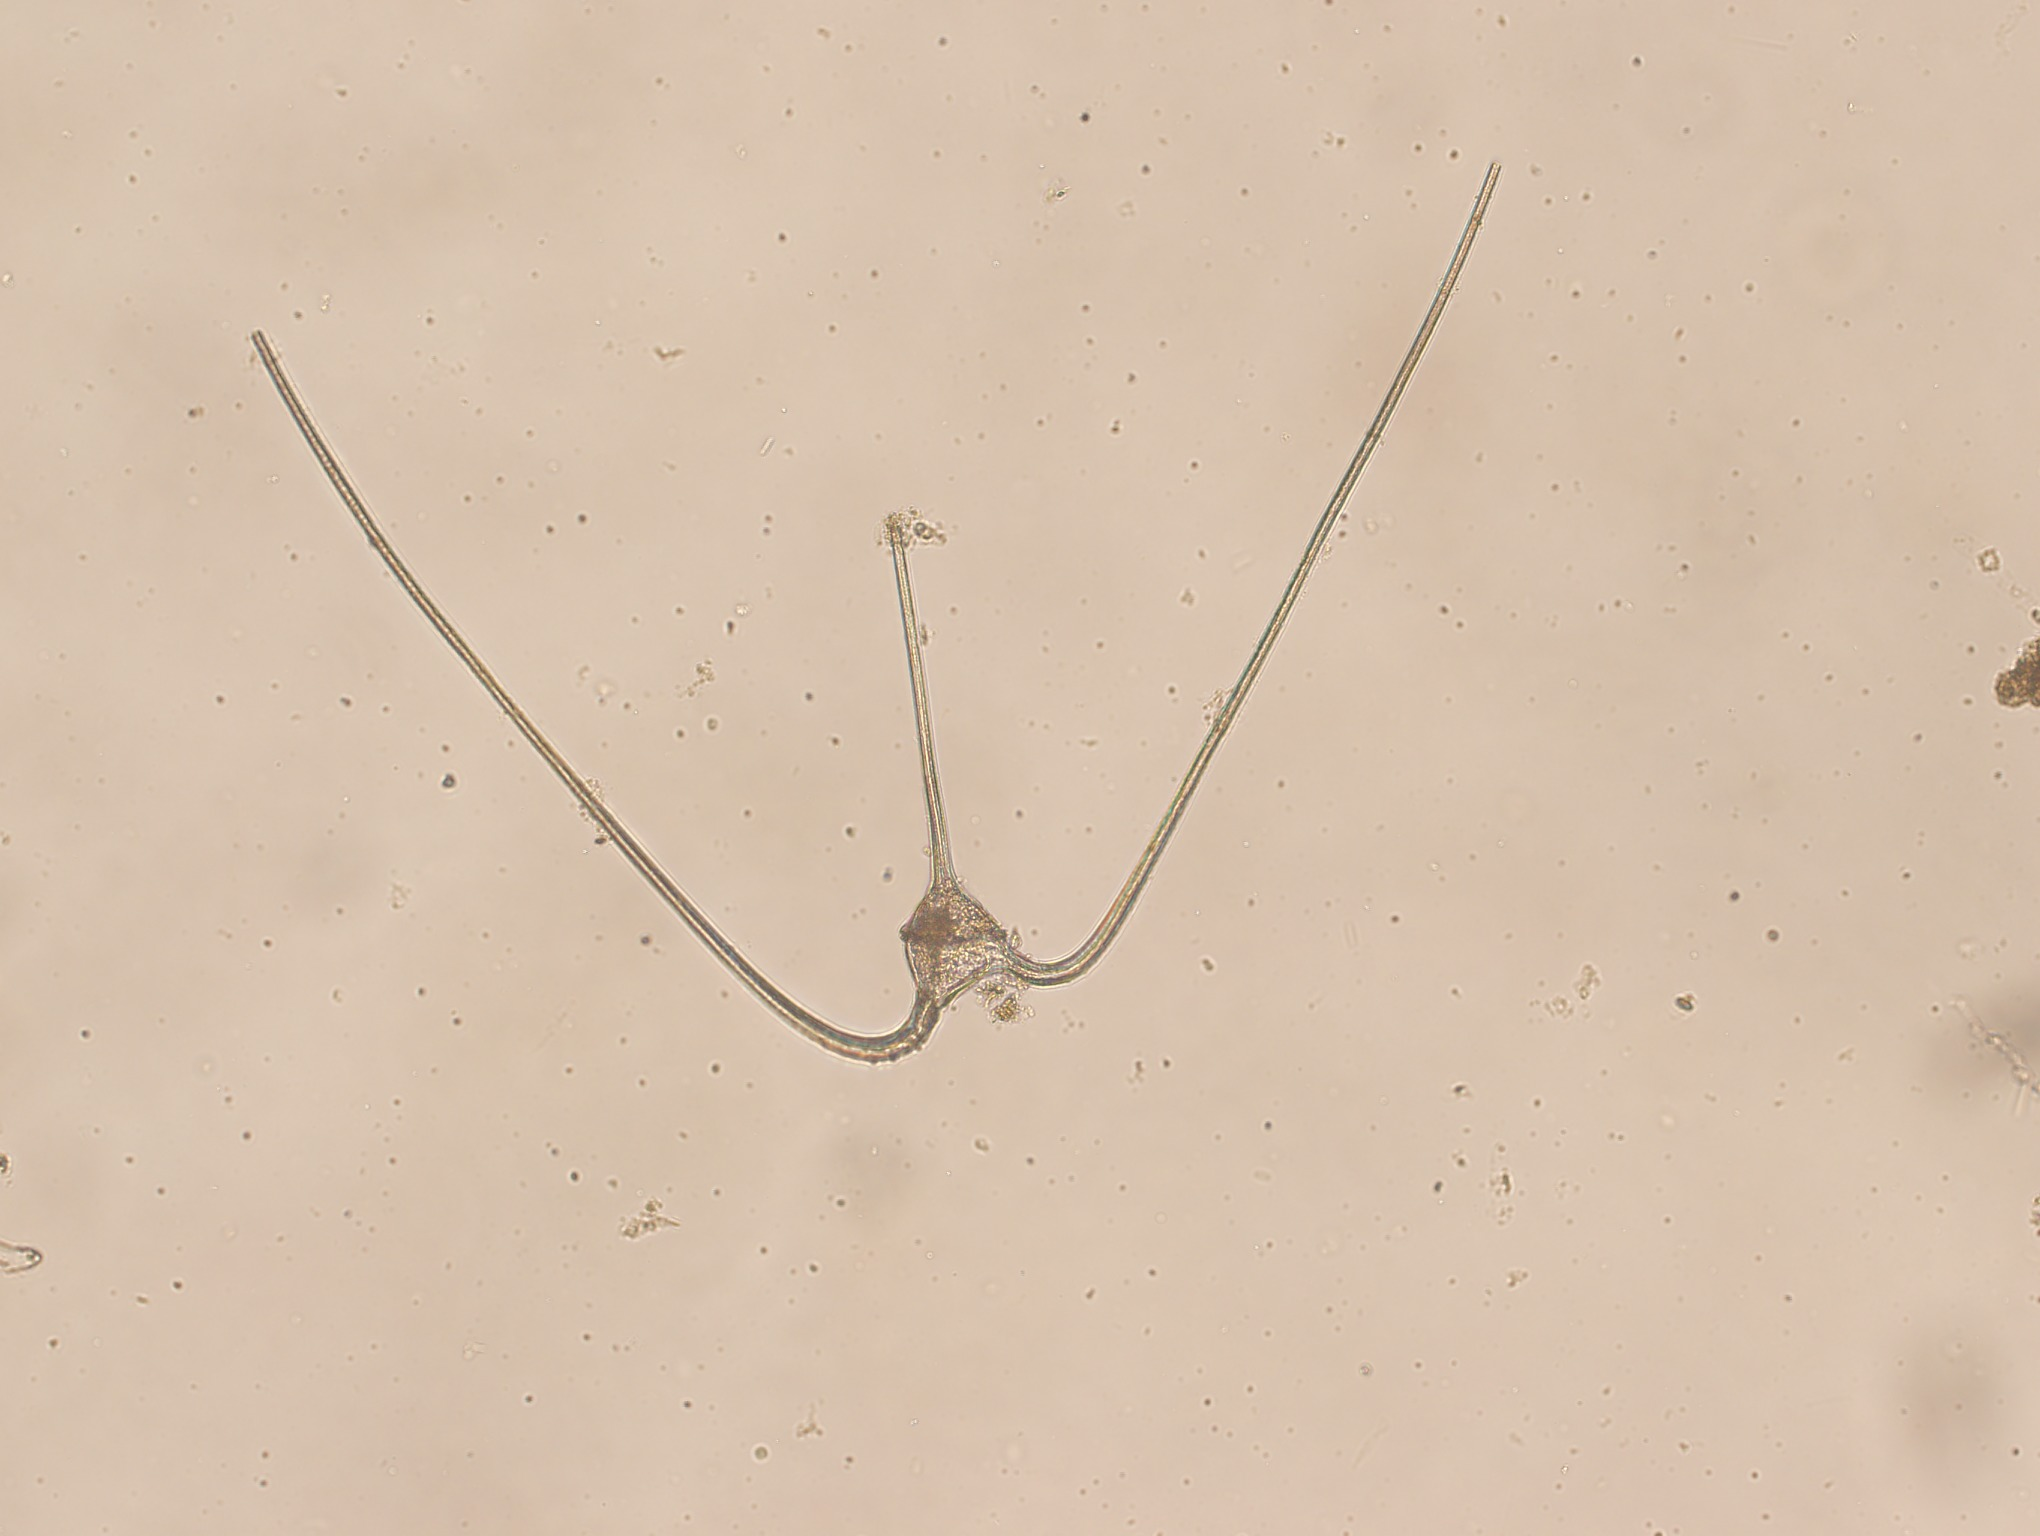ceratium carriense: (235, 140, 1508, 1075)
